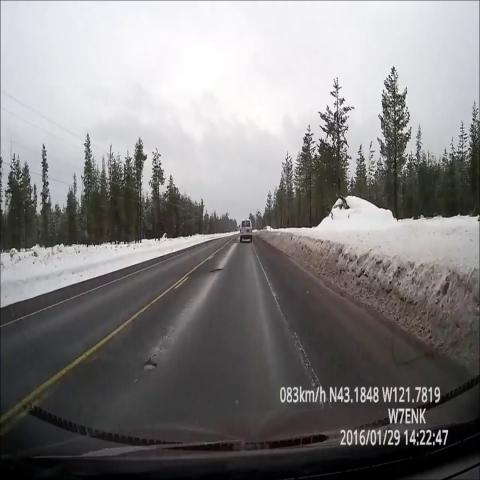pothole: (130, 333, 171, 393), (208, 251, 226, 285), (231, 230, 243, 257)
